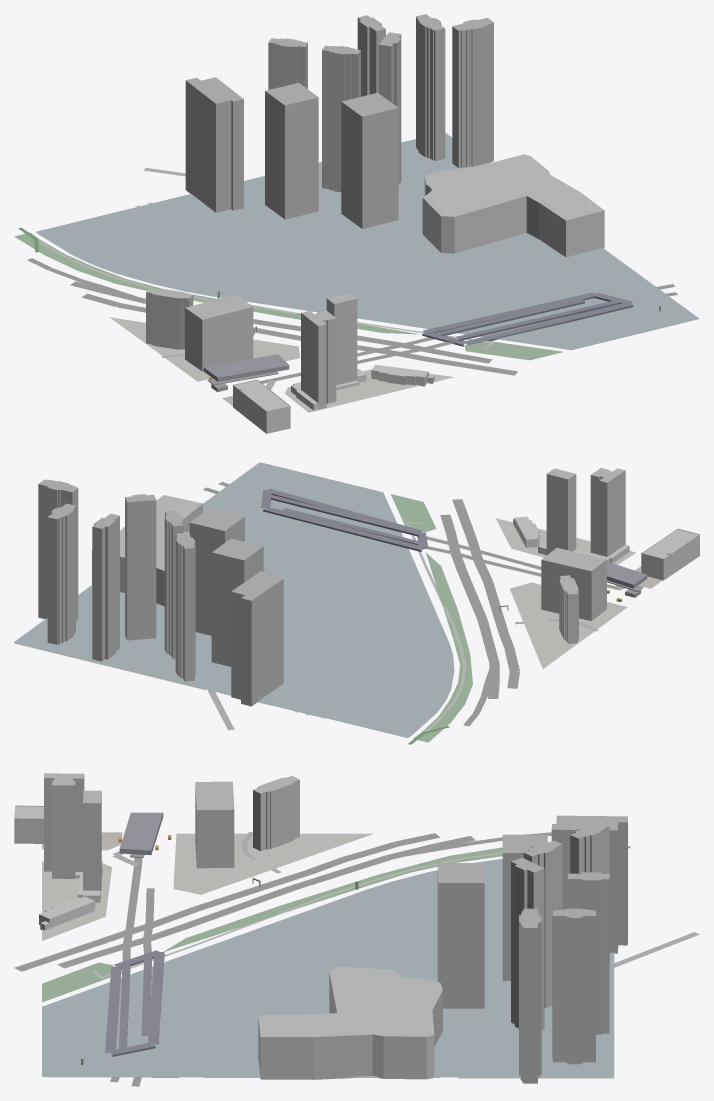
The picture shows the model from 3 angles, top to bottom: view 1: azimuth 30°, elevation 25°; view 2: azimuth 150°, elevation 25°; view 3: azimuth 270°, elevation 25°; orthographic projection. The views are drawn at different scales.
Bounding box in the file's own units: 522 × 157 × 599.
